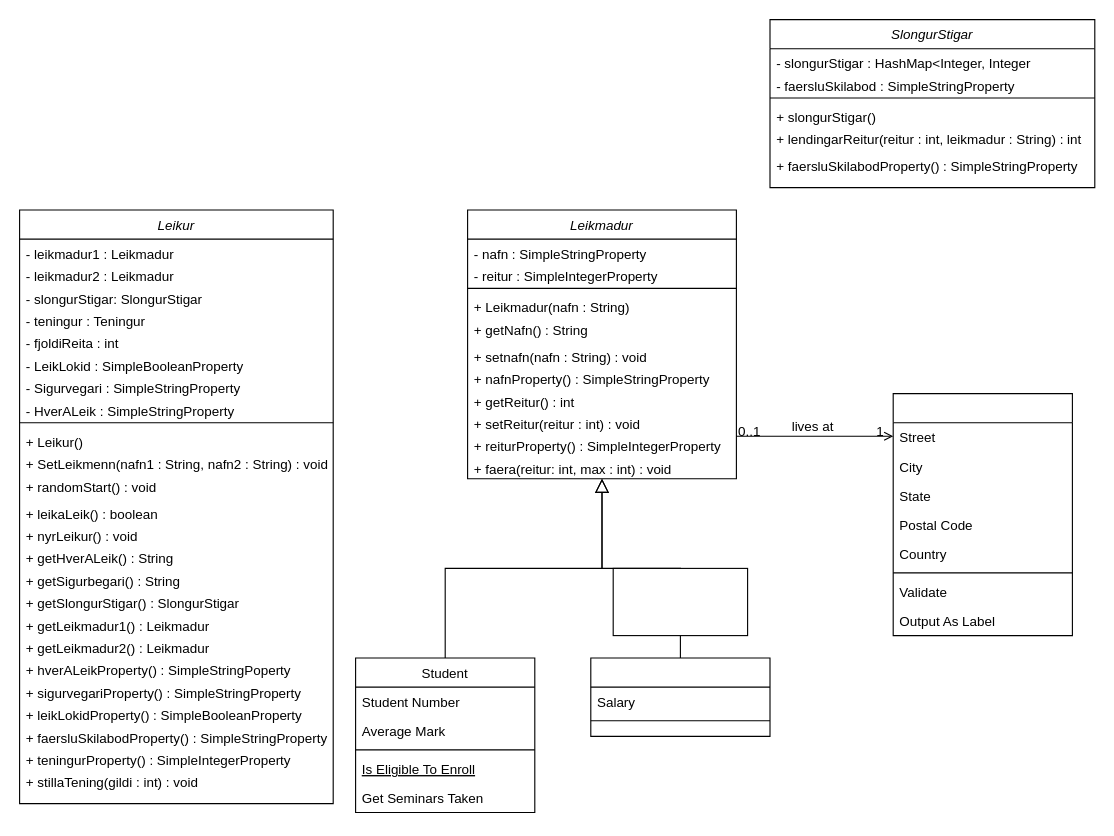
Image size: 1114x836. Some labels were removed from this diagram. Here are the shapes that lost their labels. From the top down, the box of each, then its label:
(892, 393, 1072, 636): Address
(590, 657, 770, 736): Professor
